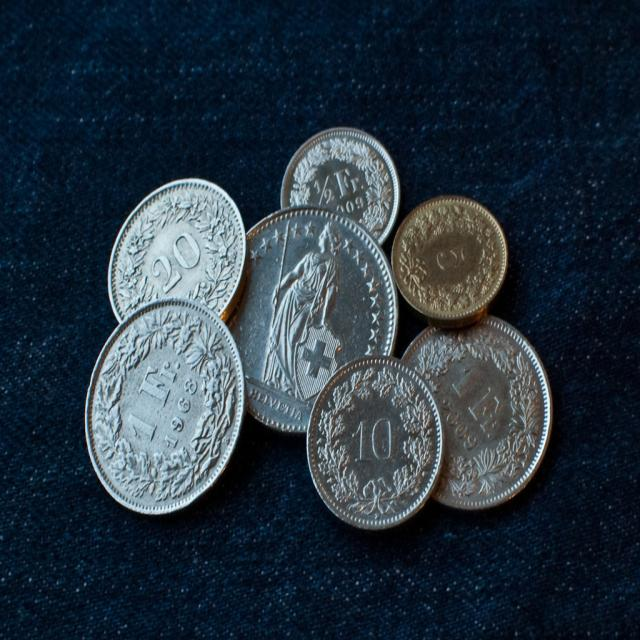Coin: (225, 200, 398, 433), (87, 296, 248, 514), (406, 321, 555, 509), (312, 359, 444, 539), (104, 177, 246, 320), (276, 130, 402, 249), (394, 196, 508, 325)
